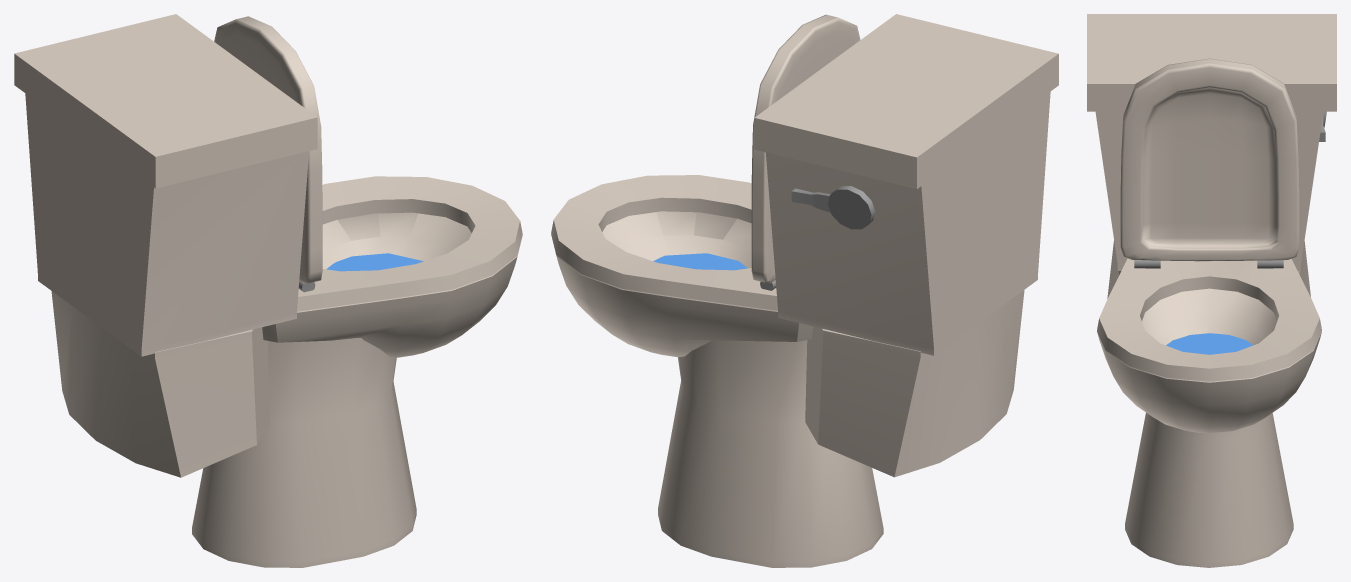
File: toilet-transformed.glb
The picture shows the model from 3 angles, left to right: view 1: azimuth 30°, elevation 25°; view 2: azimuth 150°, elevation 25°; view 3: azimuth 270°, elevation 25°; orthographic projection. The views are drawn at different scales.
Parts seen in each view (by area): view 1: Merged Geometry, taptoptoilette, water; view 2: Merged Geometry, taptoptoilette, Cylinder 2, water; view 3: Merged Geometry, taptoptoilette, water.
Part boxes in pixels (box(x1,y1,x2,y2)): Merged Geometry: box(14, 14, 522, 567); taptoptoilette: box(214, 16, 322, 283); water: box(326, 253, 423, 271); Merged Geometry: box(551, 14, 1058, 567); taptoptoilette: box(751, 14, 860, 283); Cylinder 2: box(828, 186, 875, 229); water: box(653, 253, 747, 270); Merged Geometry: box(1087, 14, 1336, 567); taptoptoilette: box(1120, 58, 1299, 260); water: box(1166, 333, 1253, 354).
Bounding box in the file's own units: 1.23 × 1.41 × 0.7124.
